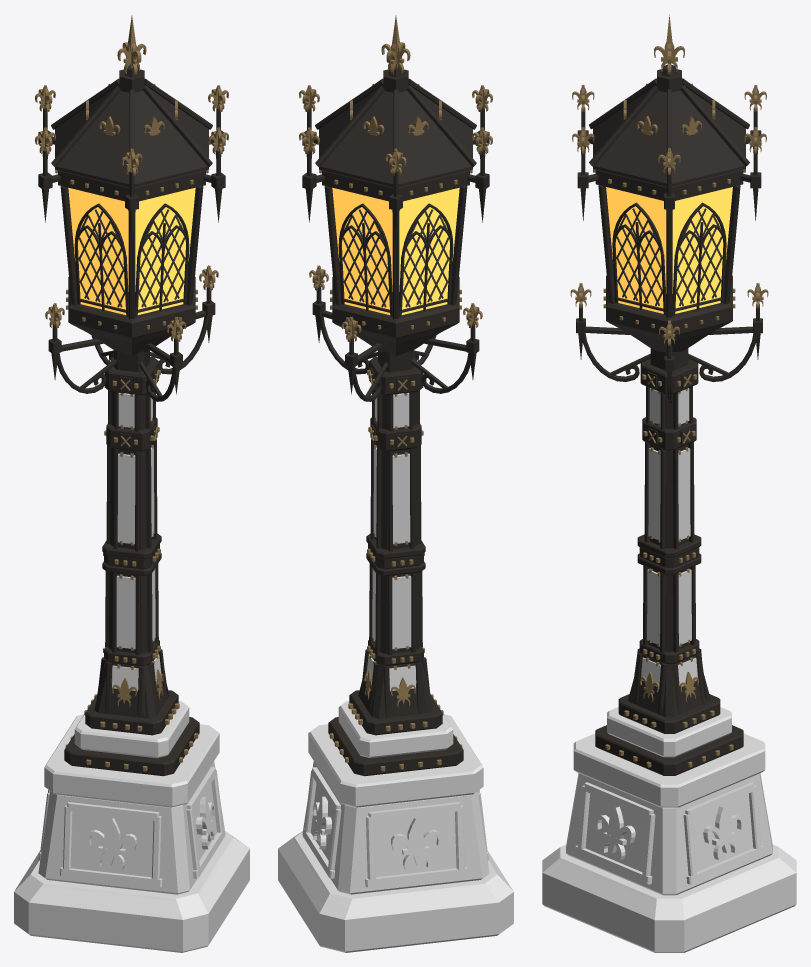
Rendered from SilverbrookStreetLamp4.glb.
3 renders of one model, left to right at view 1: azimuth 30°, elevation 25°; view 2: azimuth 150°, elevation 25°; view 3: azimuth 270°, elevation 25°, orthographic.
Visible parts, largest first — view 1: SM_SBStreetLamp4_Pedestal, SM_SBStreetLamp4_Lantern, SM_SBStreetLamp4_Column; view 2: SM_SBStreetLamp4_Pedestal, SM_SBStreetLamp4_Lantern, SM_SBStreetLamp4_Column; view 3: SM_SBStreetLamp4_Pedestal, SM_SBStreetLamp4_Lantern, SM_SBStreetLamp4_Column.
Boxes of the visible parts, x1,y1,x2,y2 form: SM_SBStreetLamp4_Pedestal: (14, 701, 249, 952); SM_SBStreetLamp4_Lantern: (35, 15, 228, 355); SM_SBStreetLamp4_Column: (45, 265, 218, 776); SM_SBStreetLamp4_Pedestal: (278, 701, 513, 952); SM_SBStreetLamp4_Lantern: (299, 15, 492, 355); SM_SBStreetLamp4_Column: (309, 265, 482, 776); SM_SBStreetLamp4_Pedestal: (542, 707, 796, 952); SM_SBStreetLamp4_Lantern: (572, 14, 766, 352); SM_SBStreetLamp4_Column: (570, 283, 768, 775).
Bounding box in the file's own units: 1.3 × 5 × 1.3.
